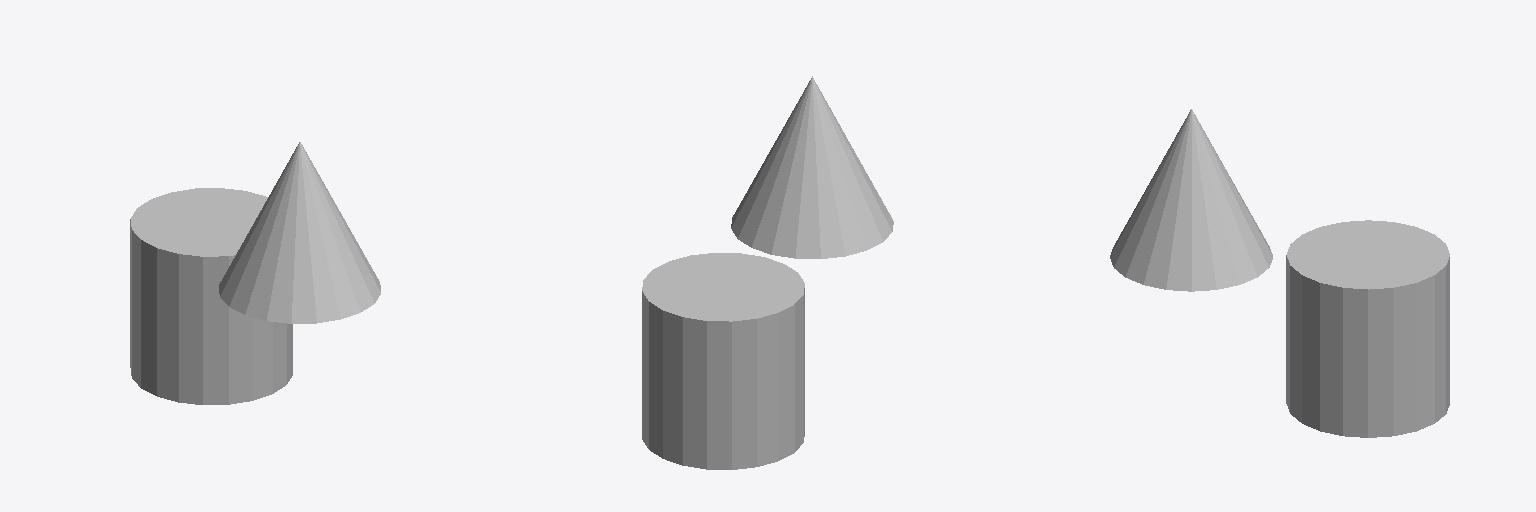
File: tipi.obj
3 renders of one model, left to right at view 1: azimuth 30°, elevation 25°; view 2: azimuth 150°, elevation 25°; view 3: azimuth 270°, elevation 25°, orthographic.
Visible parts, largest first — view 1: pCone2; view 2: pCone2; view 3: pCone2.
Boxes of the visible parts, box(x1,y1,x2,y2) form: pCone2: box(130, 142, 380, 404); pCone2: box(642, 76, 893, 469); pCone2: box(1110, 109, 1449, 437).
Size of the model in its own units: 2.01 by 3.97 by 4.16.